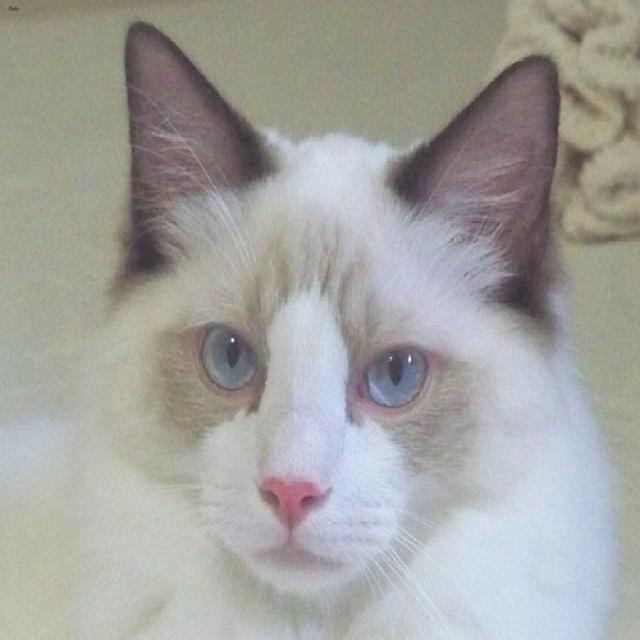Ragdoll: (101, 12, 561, 607)
